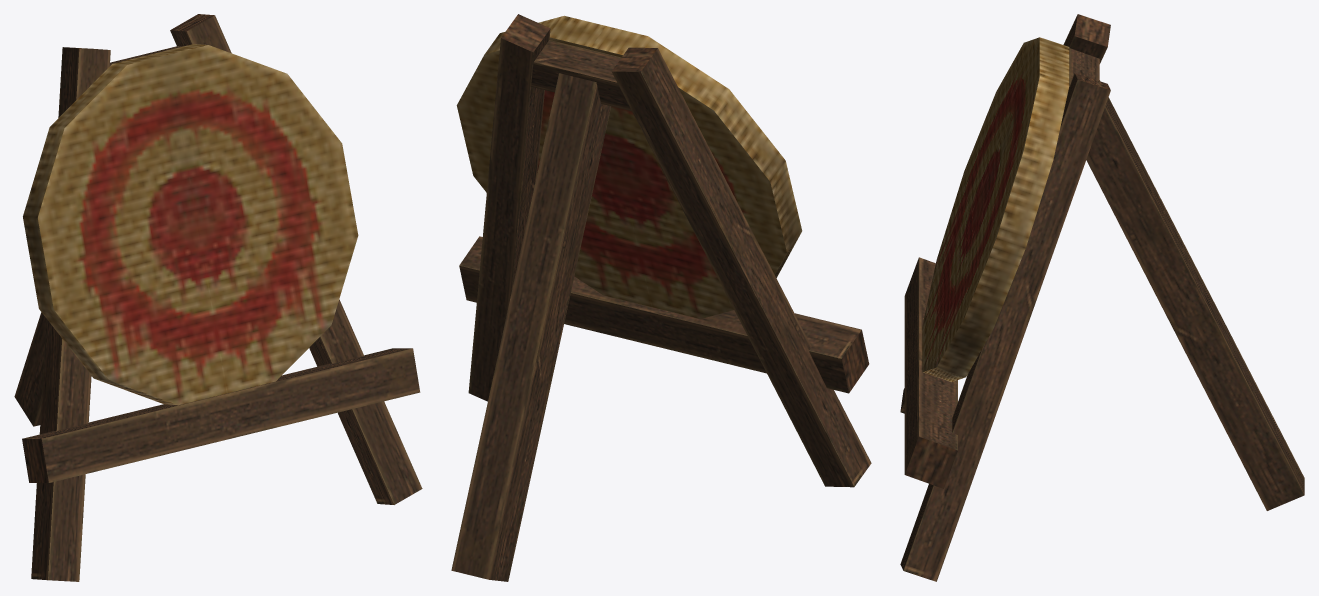
The model's file is Target01.FBX.
3 renders of one model, left to right at view 1: azimuth 30°, elevation 25°; view 2: azimuth 150°, elevation 25°; view 3: azimuth 270°, elevation 25°, orthographic. The views are drawn at different scales.
Visible parts, largest first — view 1: Target01; view 2: Target01; view 3: Target01.
Boxes of the visible parts, x1=… form: Target01: x1=14, y1=14, x2=422, y2=581; Target01: x1=451, y1=14, x2=871, y2=581; Target01: x1=900, y1=14, x2=1304, y2=581.
Bounding box in the file's own units: 93.69 × 110 × 88.47.
